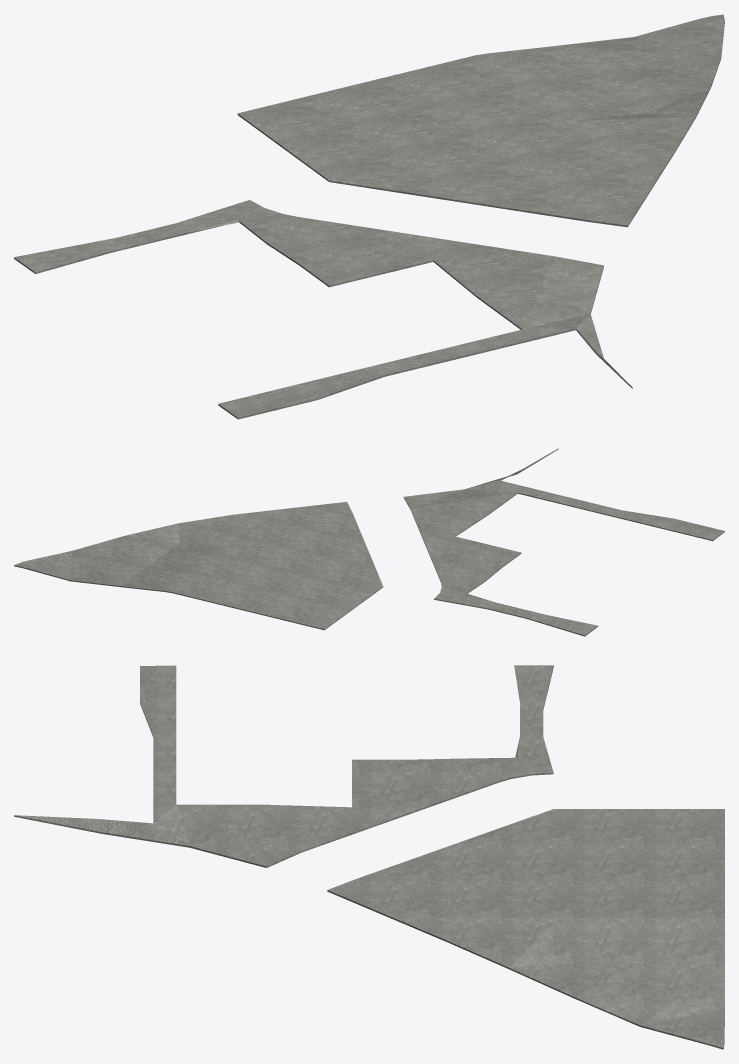
Rendered from groundbit_70_sfs.obj.
3 views of the same model, one above another, from view 1: azimuth 30°, elevation 25°; view 2: azimuth 150°, elevation 25°; view 3: azimuth 270°, elevation 25° (orthographic). The views are drawn at different scales.
Visible parts, largest first — view 1: groundbit_70_SFS; view 2: groundbit_70_SFS; view 3: groundbit_70_SFS.
Boxes of the visible parts, <box> form: groundbit_70_SFS: <box>14,14,724,419</box>; groundbit_70_SFS: <box>14,448,724,636</box>; groundbit_70_SFS: <box>14,665,724,1049</box>.
Bounding box in the file's own units: 202 × 5.58 × 166.
Materials: 1 (1 with a texture image).
